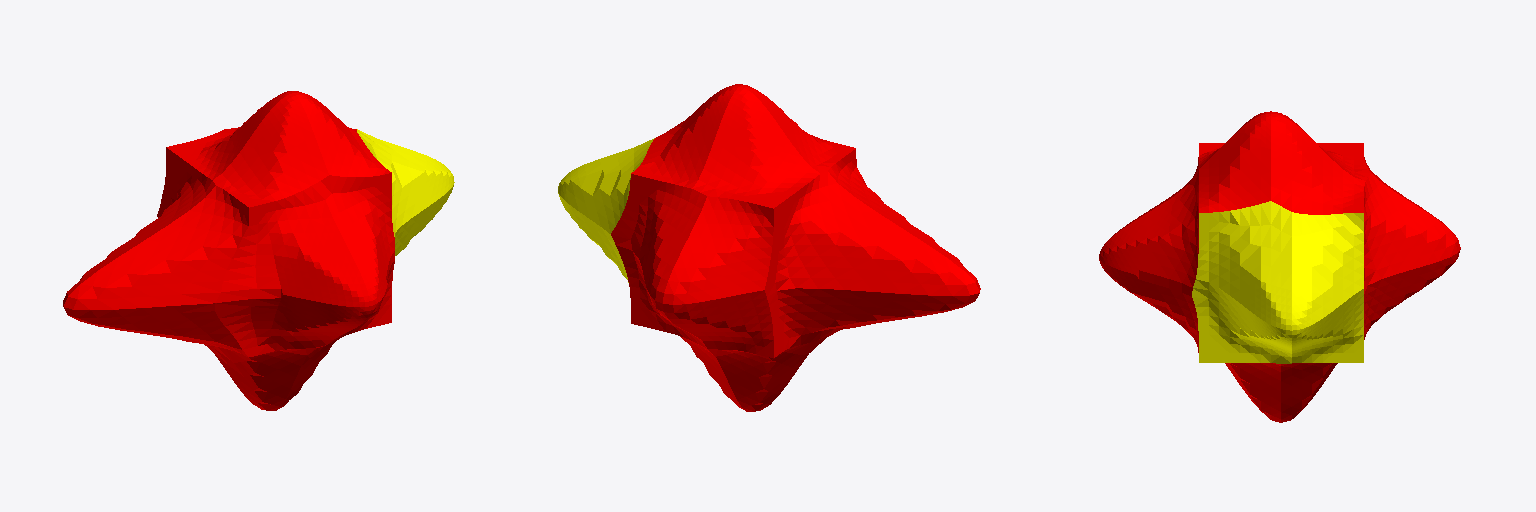
The model's file is colored-cube.obj.
The picture shows the model from 3 angles: view 1: azimuth 30°, elevation 25°; view 2: azimuth 150°, elevation 25°; view 3: azimuth 270°, elevation 25°; orthographic projection.
Parts seen in each view (by area): view 1: Cube; view 2: Cube; view 3: Cube.
Part boxes in pixels (bbox=[...]): Cube: bbox=[63, 91, 454, 410]; Cube: bbox=[558, 84, 980, 411]; Cube: bbox=[1099, 111, 1460, 422].
Size of the model in its own units: 5.65 by 4.23 by 4.38.